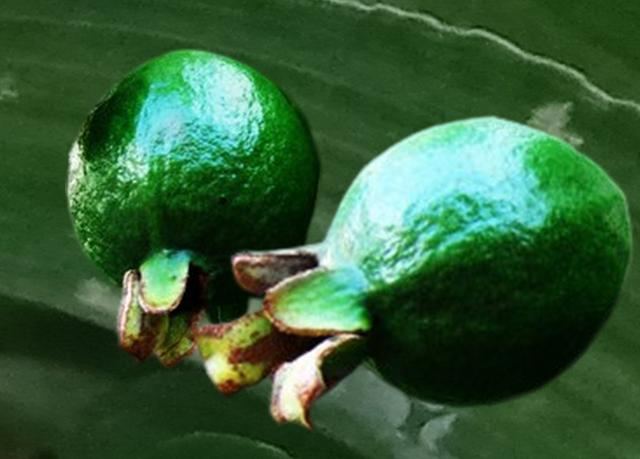guava: (192, 113, 634, 432), (65, 46, 323, 369)
